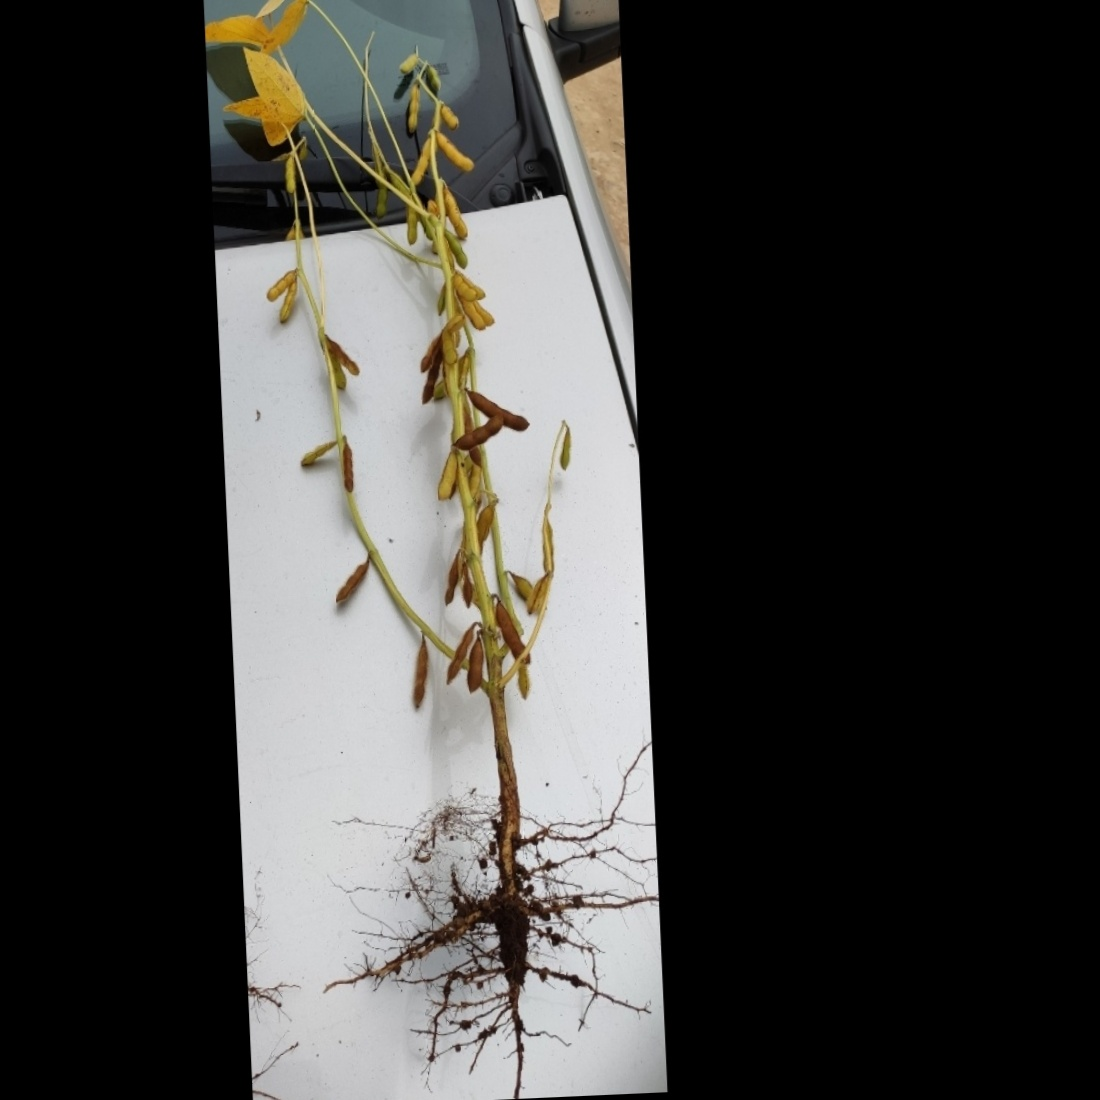pod: (460, 379, 530, 437), (424, 121, 482, 180), (400, 620, 432, 719), (487, 598, 532, 669), (447, 410, 507, 453), (332, 555, 375, 613), (459, 625, 493, 698), (434, 181, 469, 249), (296, 432, 350, 472), (261, 266, 303, 309), (402, 68, 424, 142), (275, 152, 302, 201), (434, 455, 462, 500), (557, 422, 579, 475), (341, 439, 361, 498), (446, 271, 480, 303), (425, 57, 444, 97)
soy: (255, 26, 618, 1043)
